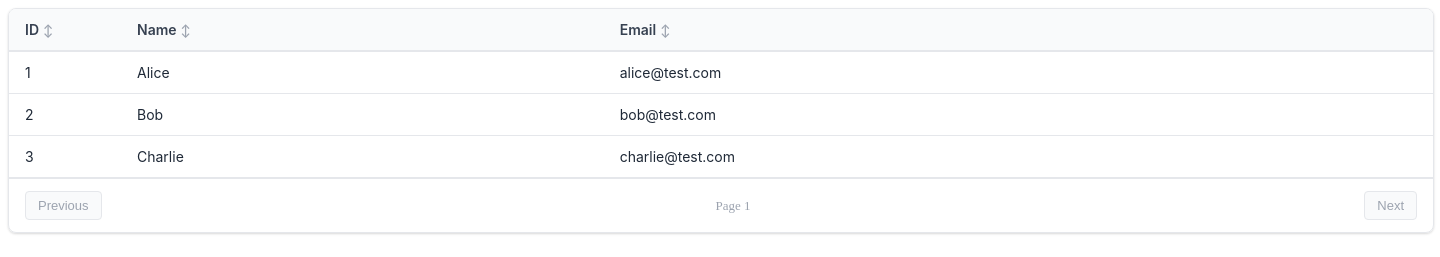
Test: BifrostTable › editable › shows edit input on double-click when editable
Double-click the text "Alice" at (153, 72), box [121,51,604,94]
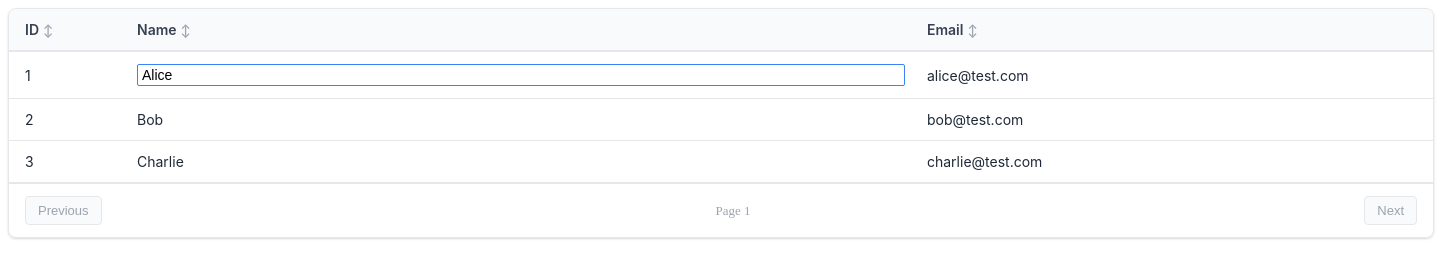
Now the field with test id "edit-input" is shown, box [137,64,905,86]
